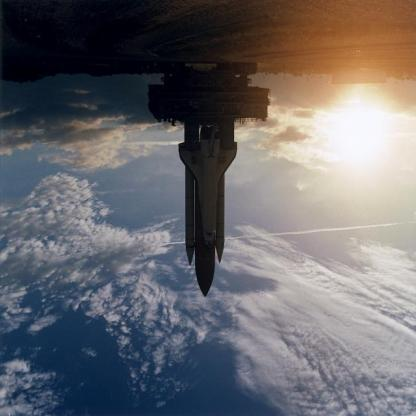MIL_TBM: (183, 157, 195, 268), (217, 171, 228, 270)
